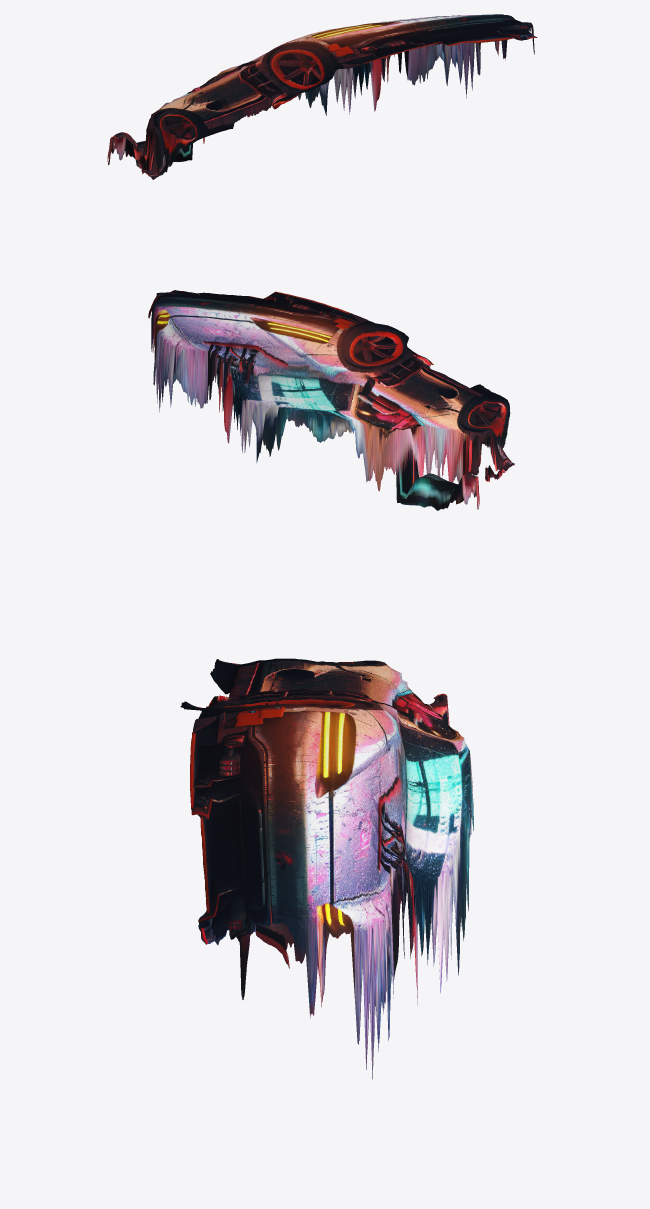
The model's file is car-1.gltf.
3 views of the same model, one above another, from view 1: azimuth 30°, elevation 25°; view 2: azimuth 150°, elevation 25°; view 3: azimuth 270°, elevation 25° (orthographic). The views are drawn at different scales.
Visible parts, largest first — view 1: Plane; view 2: Plane; view 3: Plane.
Boxes of the visible parts, x1=… form: Plane: x1=107, y1=14, x2=537, y2=179; Plane: x1=148, y1=290, x2=514, y2=510; Plane: x1=180, y1=658, x2=473, y2=1079.
Bounding box in the file's own units: 41 × 10.14 × 21.3.
Materials: 1 (1 with a texture image).
